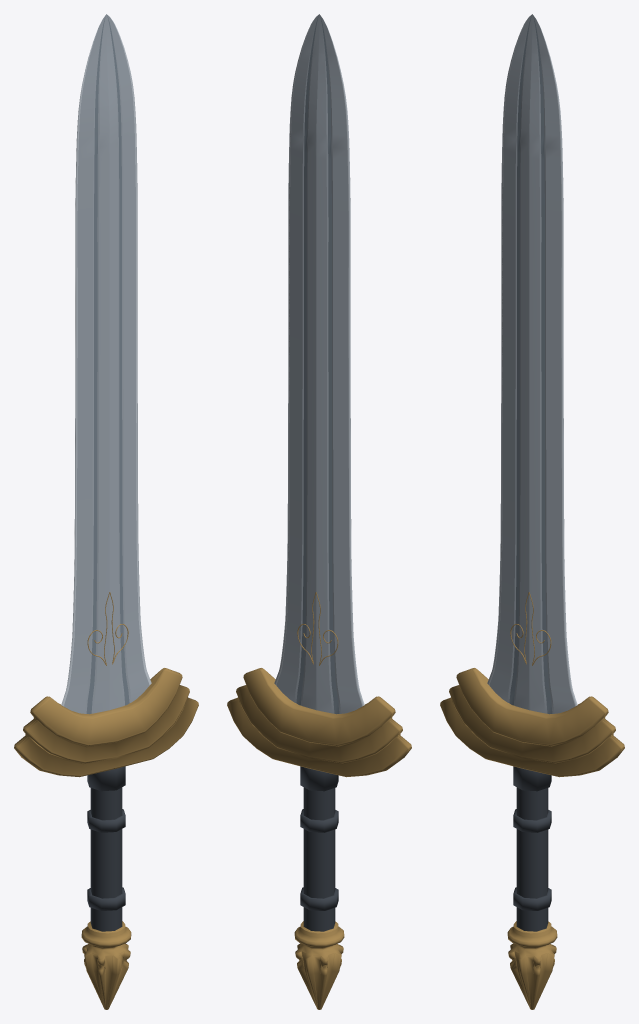
Rendered from SM_PlayerSword_A_DetailV01.fbx.
3 renders of one model, left to right at view 1: azimuth 30°, elevation 25°; view 2: azimuth 150°, elevation 25°; view 3: azimuth 330°, elevation 25°, orthographic.
Parts seen in each view (by area): view 1: SM_PlayerSword_A_DetailV01; view 2: SM_PlayerSword_A_DetailV01; view 3: SM_PlayerSword_A_DetailV01.
Part boxes in pixels (<box>): SM_PlayerSword_A_DetailV01: <box>14,14,198,1009</box>; SM_PlayerSword_A_DetailV01: <box>227,14,411,1009</box>; SM_PlayerSword_A_DetailV01: <box>440,14,624,1009</box>.
Bounding box in the file's own units: 15.04 × 3.6 × 78.31.
